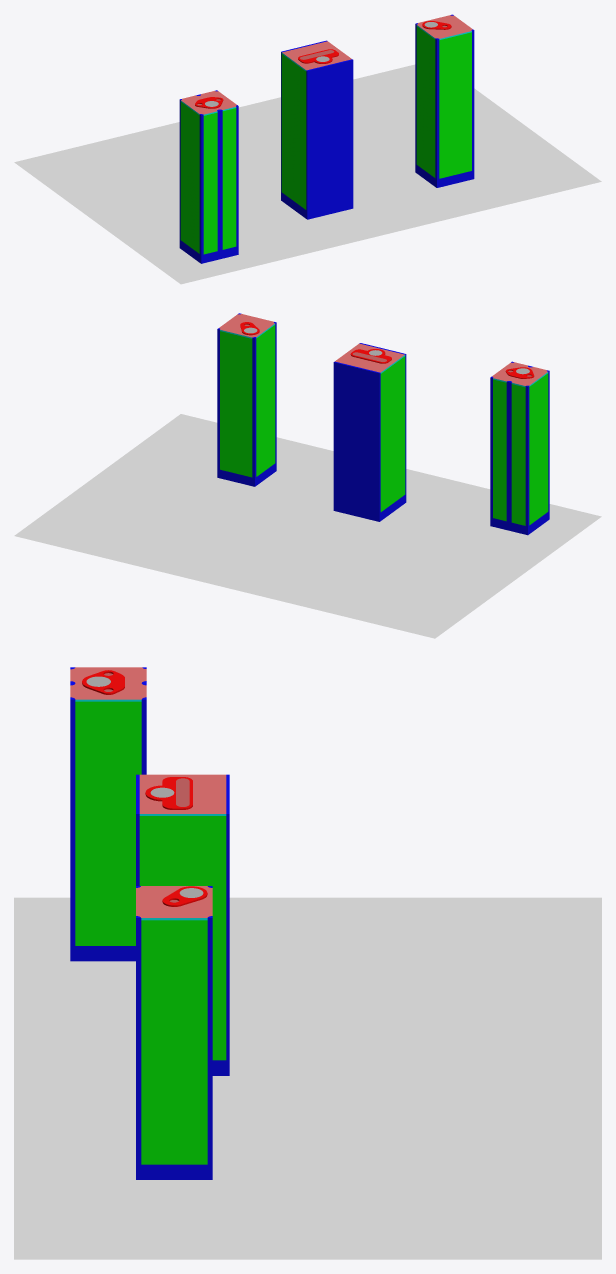
The model's file is 3Dsensors.glb.
The picture shows the model from 3 angles, top to bottom: view 1: azimuth 30°, elevation 25°; view 2: azimuth 150°, elevation 25°; view 3: azimuth 270°, elevation 25°; orthographic projection. The views are drawn at different scales.
Parts seen in each view (by area): view 1: Node424, Node7, Node147, Node16, Node161, Node254, Node258, Node262, Node260, Node18, Node3, Node136 (+5 smaller); view 2: Node424, Node5, Node158, Node16, Node254, Node161, Node251, Node247, Node248, Node18, Node9; view 3: Node424, Node154, Node266, Node14, Node124, Node149, Node264, Node18, Node106, Node102, Node128, Node6 (+3 smaller).
Part boxes in pixels (bbox=[...]): Node424: bbox=[14, 64, 601, 284]; Node7: bbox=[307, 60, 353, 210]; Node147: bbox=[439, 32, 471, 178]; Node16: bbox=[281, 54, 306, 209]; Node161: bbox=[416, 26, 435, 177]; Node254: bbox=[180, 102, 199, 253]; Node258: bbox=[203, 112, 217, 254]; Node262: bbox=[222, 108, 236, 249]; Node260: bbox=[217, 111, 222, 250]; Node18: bbox=[282, 41, 339, 61]; Node3: bbox=[307, 200, 353, 219]; Node136: bbox=[236, 107, 238, 246]; Node424: bbox=[14, 414, 601, 638]; Node5: bbox=[333, 362, 379, 513]; Node158: bbox=[220, 331, 252, 477]; Node16: bbox=[380, 356, 405, 511]; Node254: bbox=[529, 373, 548, 525]; Node161: bbox=[256, 325, 275, 476]; Node251: bbox=[511, 384, 525, 525]; Node247: bbox=[493, 379, 506, 521]; Node248: bbox=[506, 383, 511, 522]; Node18: bbox=[335, 352, 392, 372]; Node9: bbox=[333, 502, 379, 521]; Node424: bbox=[14, 897, 601, 1259]; Node154: bbox=[141, 920, 207, 1164]; Node266: bbox=[75, 701, 141, 945]; Node14: bbox=[139, 816, 226, 1060]; Node124: bbox=[207, 920, 212, 1164]; Node149: bbox=[136, 920, 141, 1164]; Node264: bbox=[70, 701, 75, 945]; Node18: bbox=[183, 774, 226, 813]; Node106: bbox=[136, 1164, 212, 1179]; Node102: bbox=[136, 902, 212, 917]; Node128: bbox=[70, 946, 135, 961]; Node6: bbox=[226, 814, 229, 1060].
Bounding box in the file's own units: 198 × 67.32 × 136.
